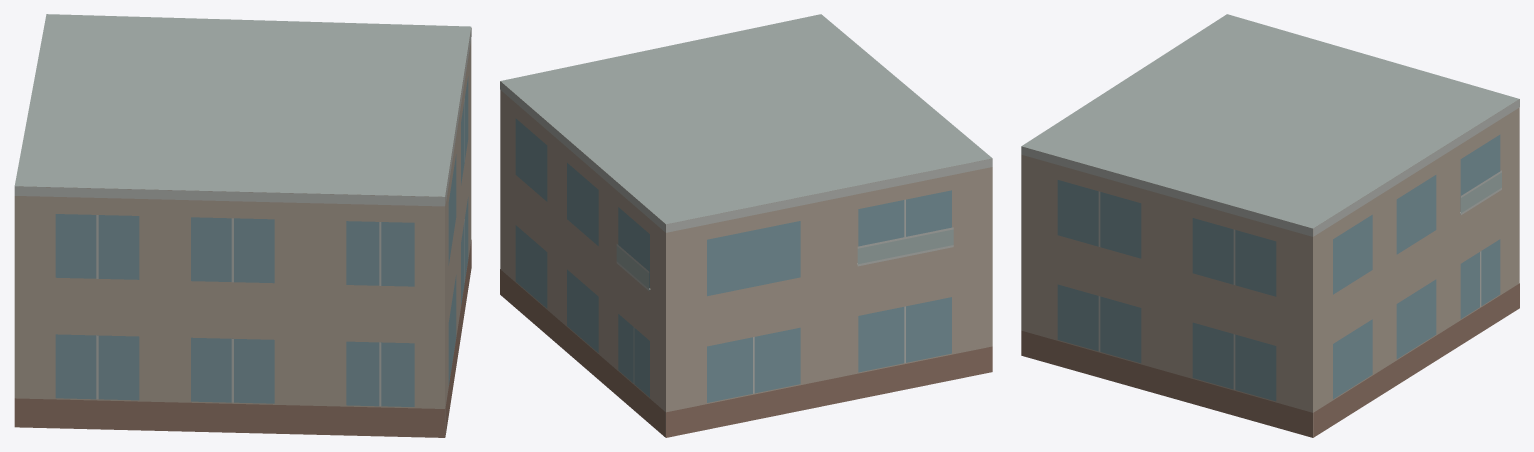
File: survey-upis-32661189.glb
3 views of the same model, side by side, from view 1: azimuth 30°, elevation 25°; view 2: azimuth 150°, elevation 25°; view 3: azimuth 270°, elevation 25° (orthographic). The views are drawn at different scales.
Visible parts, largest first — view 1: survey-upis-32661189.tmp; view 2: survey-upis-32661189.tmp; view 3: survey-upis-32661189.tmp.
Part boxes in pixels (box(x1,y1,x2,y2)): survey-upis-32661189.tmp: box(14, 14, 471, 437); survey-upis-32661189.tmp: box(500, 14, 992, 437); survey-upis-32661189.tmp: box(1021, 14, 1519, 437).
Bounding box in the file's own units: 13.42 × 6.1 × 13.18.
